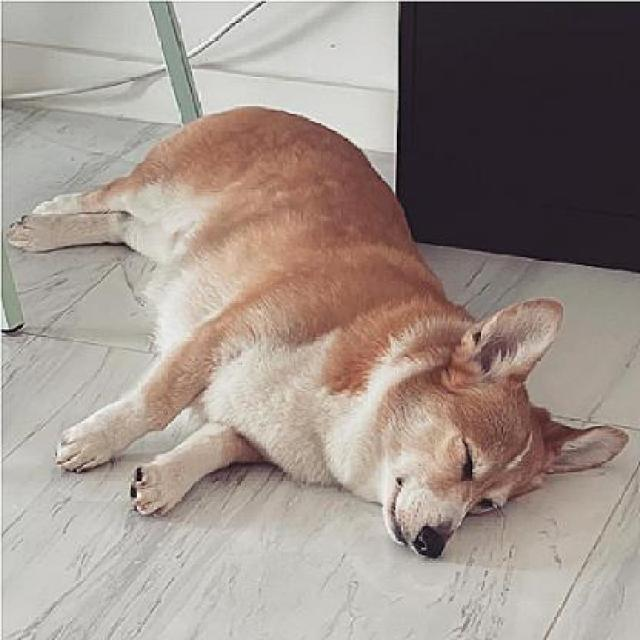Dog: (6, 100, 631, 566)
